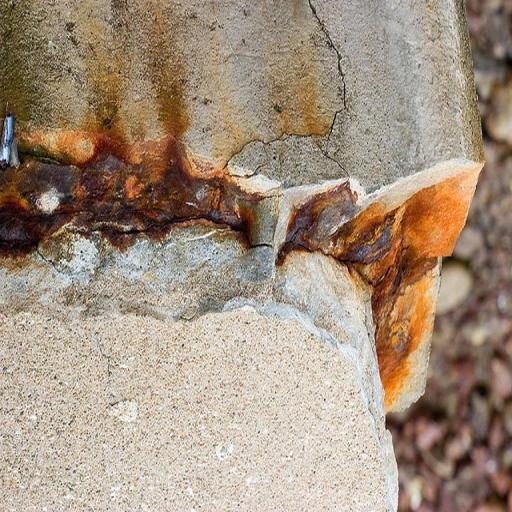spalling: (4, 128, 483, 413)
